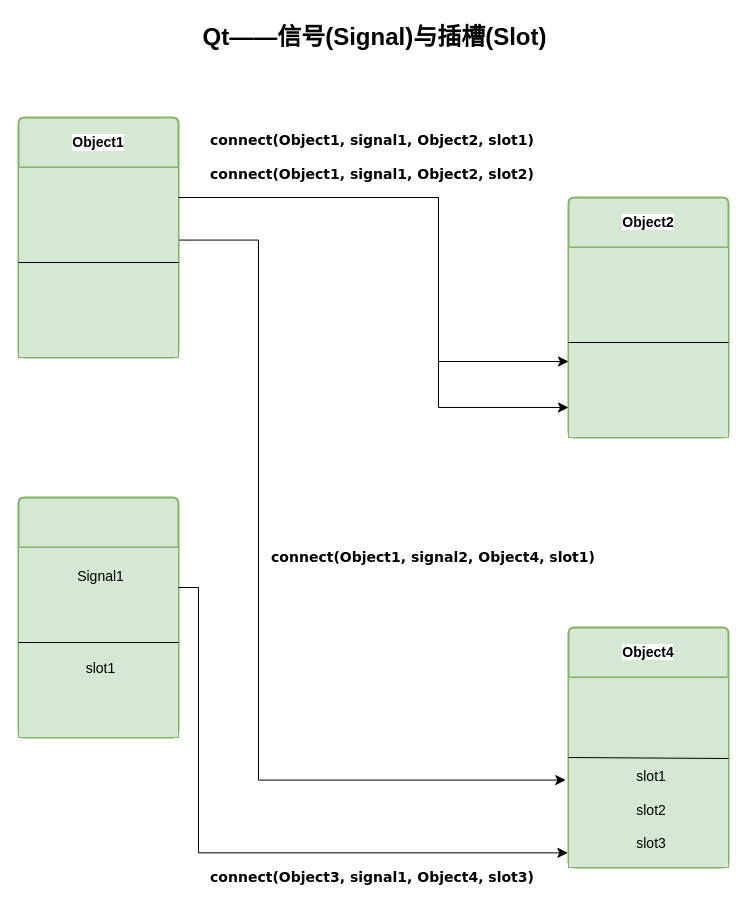
The diagram is 747 pixels wide and 924 high, and some of its shapes have lost their labels. The box of each missing label's shape, as (x1, y1, x2, y2) in pixels:
Object3: (17, 496, 179, 738)
Signal1 Signal2: (18, 166, 178, 358)
Signal1 Signal2 slot1 slot2: (568, 246, 728, 438)
